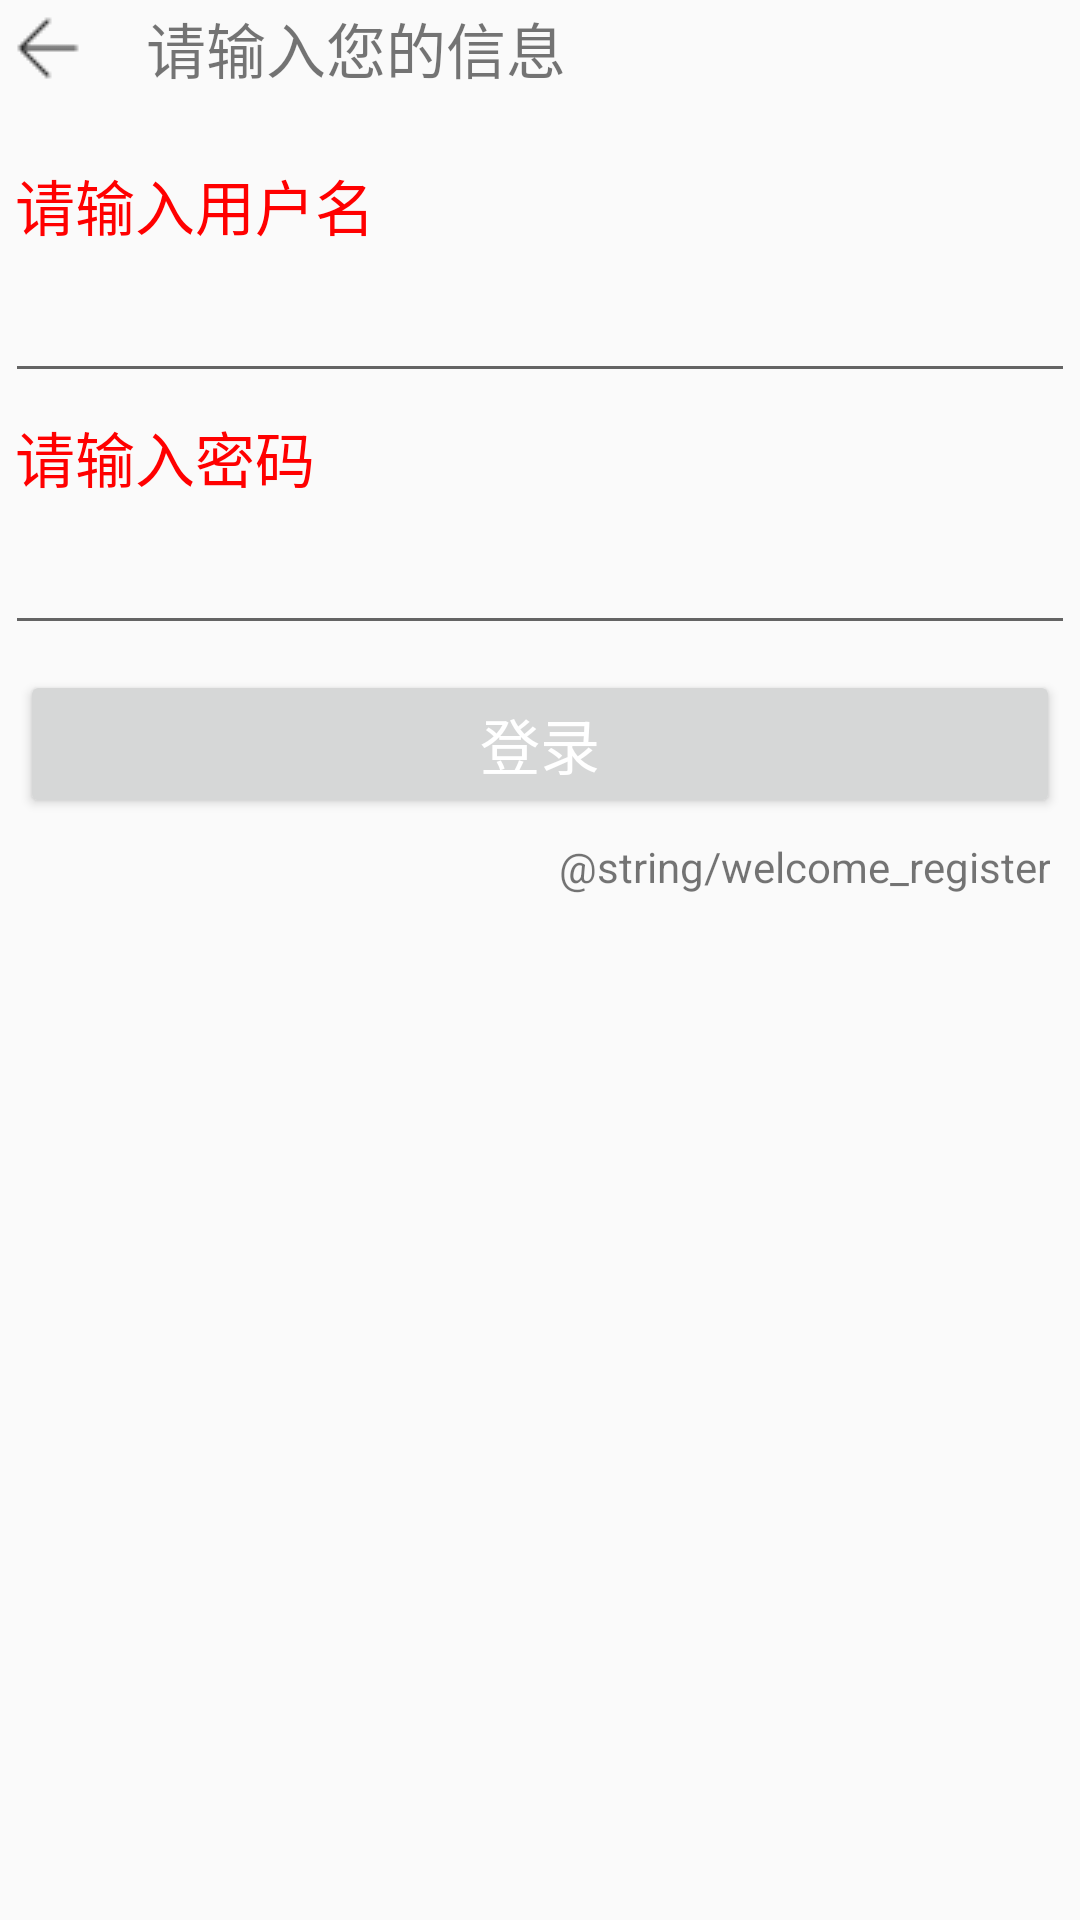

Icons on this 1080×1920 Android screen, each with its box as (x1=x1, y1=y1, x2=x2, y2=y2):
back: (x1=17, y1=18, x2=79, y2=79)
